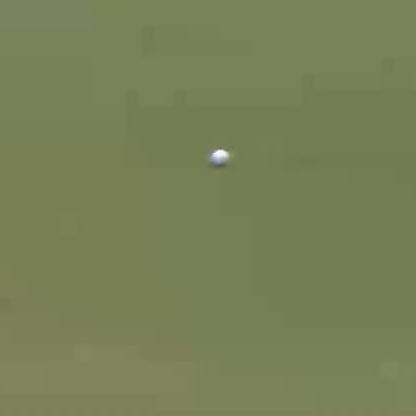golfball: (207, 145, 229, 167)
